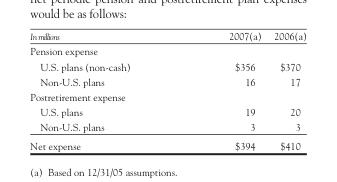table: (29, 29, 305, 151)
table column: (29, 29, 178, 151), (178, 29, 267, 151), (267, 29, 305, 151)
table column header: (29, 29, 305, 43)
table projected row header: (29, 43, 305, 58), (29, 88, 305, 103)
table row: (29, 118, 305, 135), (29, 135, 305, 151), (29, 43, 305, 58), (29, 58, 305, 73), (29, 73, 305, 88), (29, 88, 305, 103), (29, 103, 305, 118), (29, 29, 305, 43)
